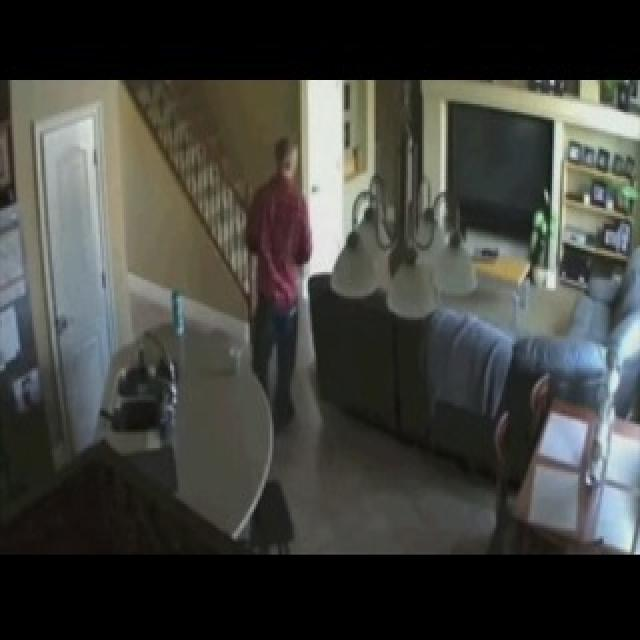thief: (260, 139, 320, 265)
